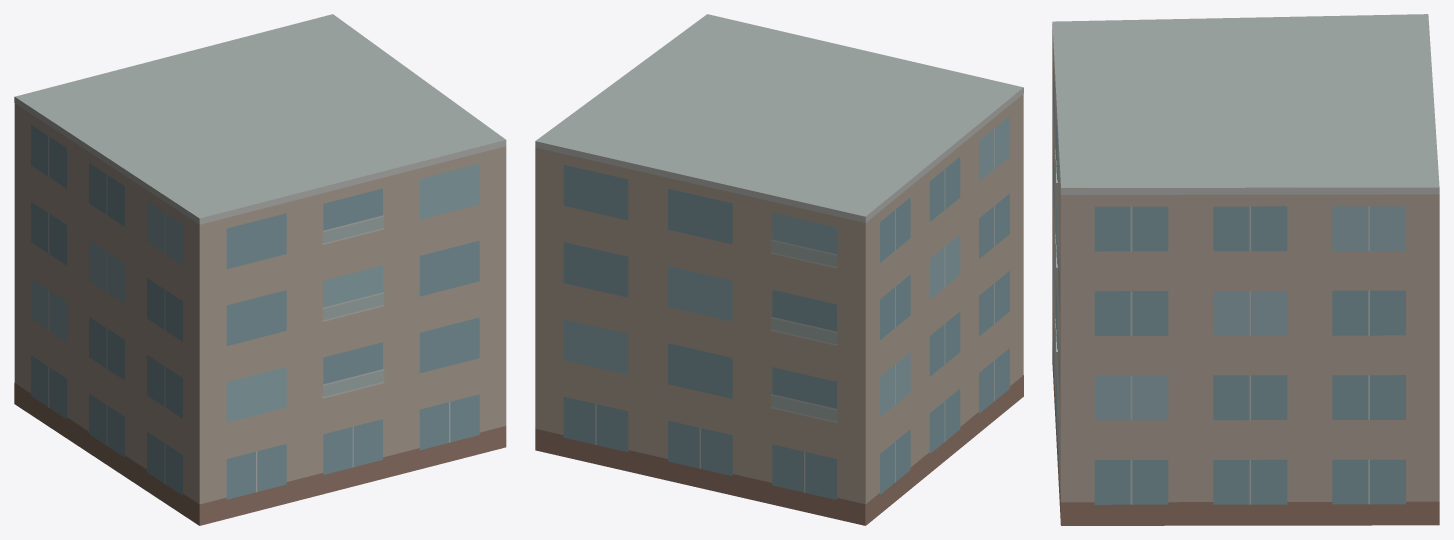
File: survey-upis-32770278.glb
The picture shows the model from 3 angles, left to right: view 1: azimuth 30°, elevation 25°; view 2: azimuth 150°, elevation 25°; view 3: azimuth 270°, elevation 25°; orthographic projection. The views are drawn at different scales.
Visible parts, largest first — view 1: survey-upis-32770278.tmp; view 2: survey-upis-32770278.tmp; view 3: survey-upis-32770278.tmp.
Boxes of the visible parts, x1,y1,x2,y2 form: survey-upis-32770278.tmp: [14, 14, 506, 525]; survey-upis-32770278.tmp: [535, 14, 1023, 525]; survey-upis-32770278.tmp: [1052, 14, 1439, 525].
Size of the model in its own units: 13.16 by 11.9 by 12.38.
